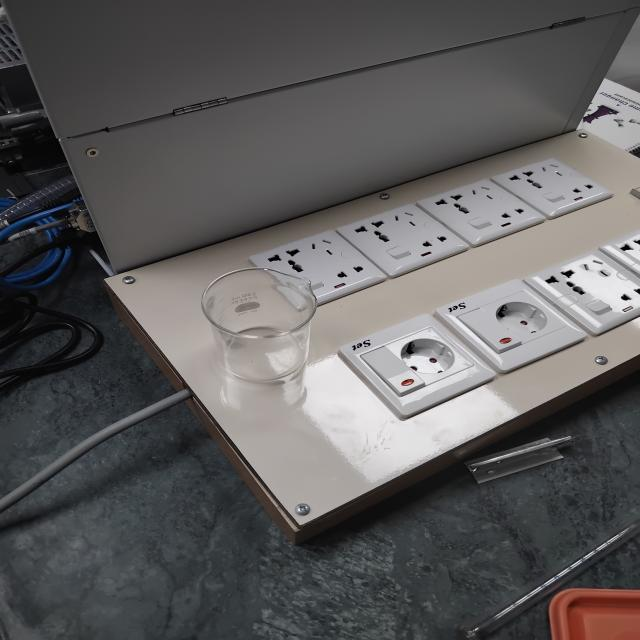Beaker: (184, 244, 378, 401)
